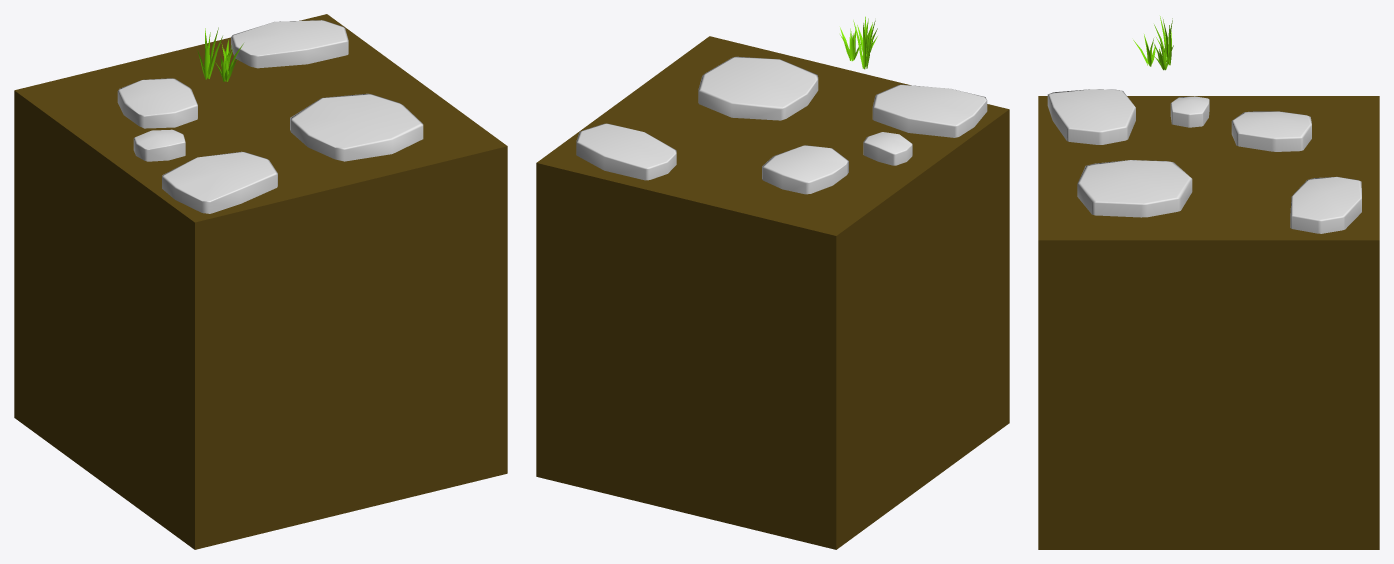
File: square_pack_steppe_2.fbx
3 views of the same model, side by side, from view 1: azimuth 30°, elevation 25°; view 2: azimuth 150°, elevation 25°; view 3: azimuth 270°, elevation 25° (orthographic). The views are drawn at different scales.
Parts seen in each view (by area): view 1: under_ground, pCube169, pCube166, pCube170, pCube171, pCube172; view 2: under_ground, pCube169, pCube166, pCube170, pCube171, pCube172; view 3: under_ground, pCube169, pCube166, pCube170, pCube171, pCube172.
Part boxes in pixels (bbox=[...]): under_ground: bbox=[14, 14, 507, 549]; pCube169: bbox=[290, 93, 423, 161]; pCube166: bbox=[162, 151, 277, 213]; pCube170: bbox=[231, 20, 348, 68]; pCube171: bbox=[117, 78, 197, 128]; pCube172: bbox=[133, 129, 185, 161]; under_ground: bbox=[536, 36, 1009, 549]; pCube169: bbox=[698, 56, 818, 120]; pCube166: bbox=[872, 84, 987, 137]; pCube170: bbox=[576, 123, 676, 180]; pCube171: bbox=[762, 145, 848, 194]; pCube172: bbox=[863, 132, 912, 165]; under_ground: bbox=[1038, 96, 1379, 549]; pCube169: bbox=[1077, 160, 1192, 217]; pCube166: bbox=[1047, 89, 1135, 144]; pCube170: bbox=[1290, 176, 1361, 233]; pCube171: bbox=[1231, 111, 1311, 151]; pCube172: bbox=[1170, 96, 1209, 127].
Bounding box in the file's own units: 100 × 138 × 100.
